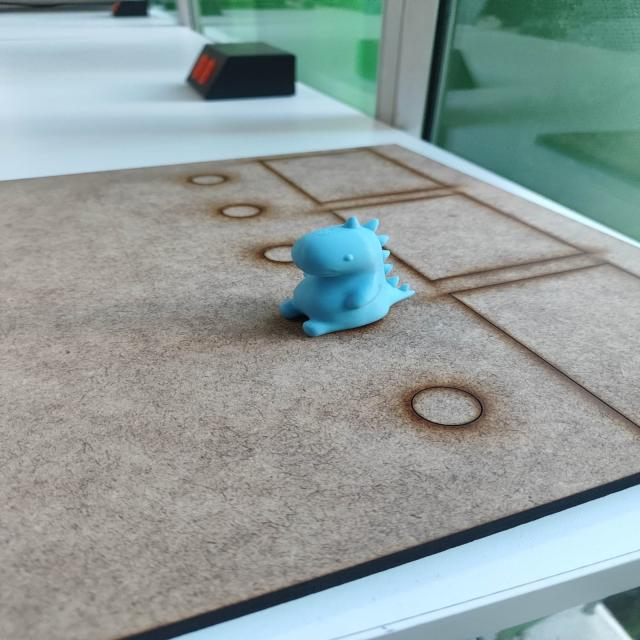DINO: (272, 219, 422, 336)
